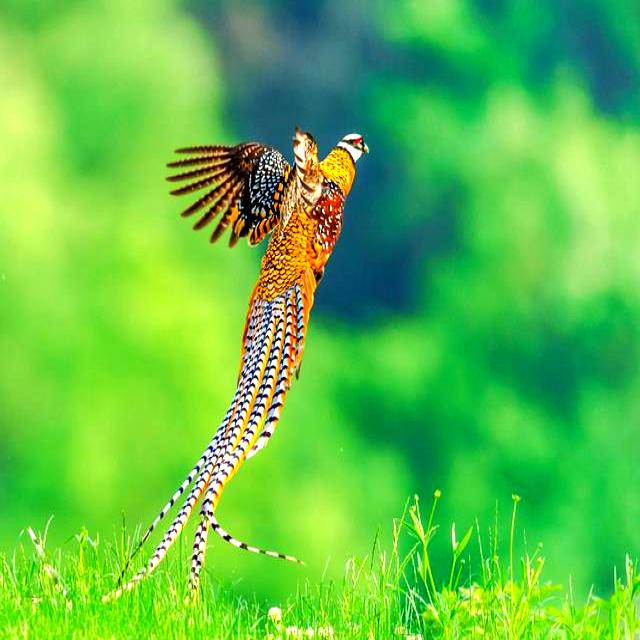Reeves-s Pheasant: (103, 268, 316, 602)
